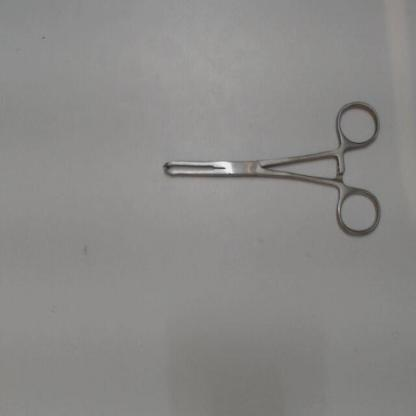Allis Tissue Forceps: (156, 95, 384, 247)
